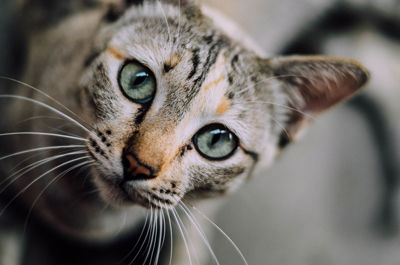cat: (52, 1, 382, 237)
